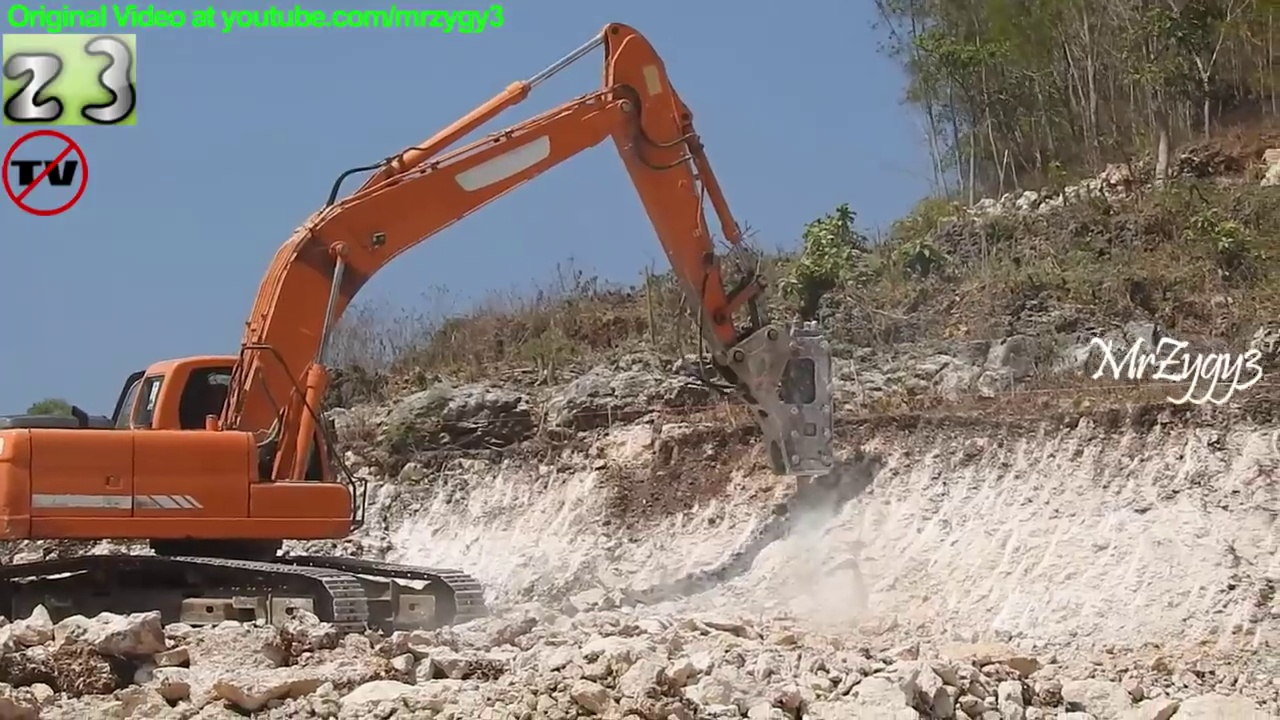excavator breaker: (1, 23, 837, 662)
